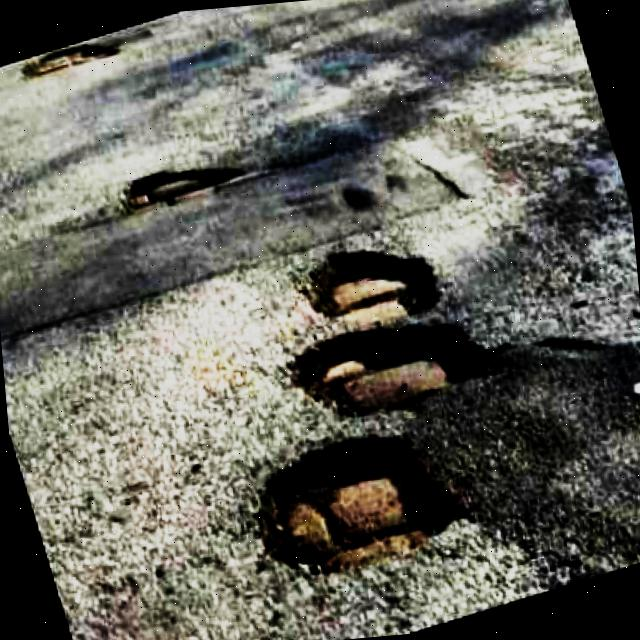pothole: (252, 423, 470, 579), (286, 312, 511, 425), (298, 238, 442, 331), (128, 161, 241, 212), (21, 34, 122, 80)
